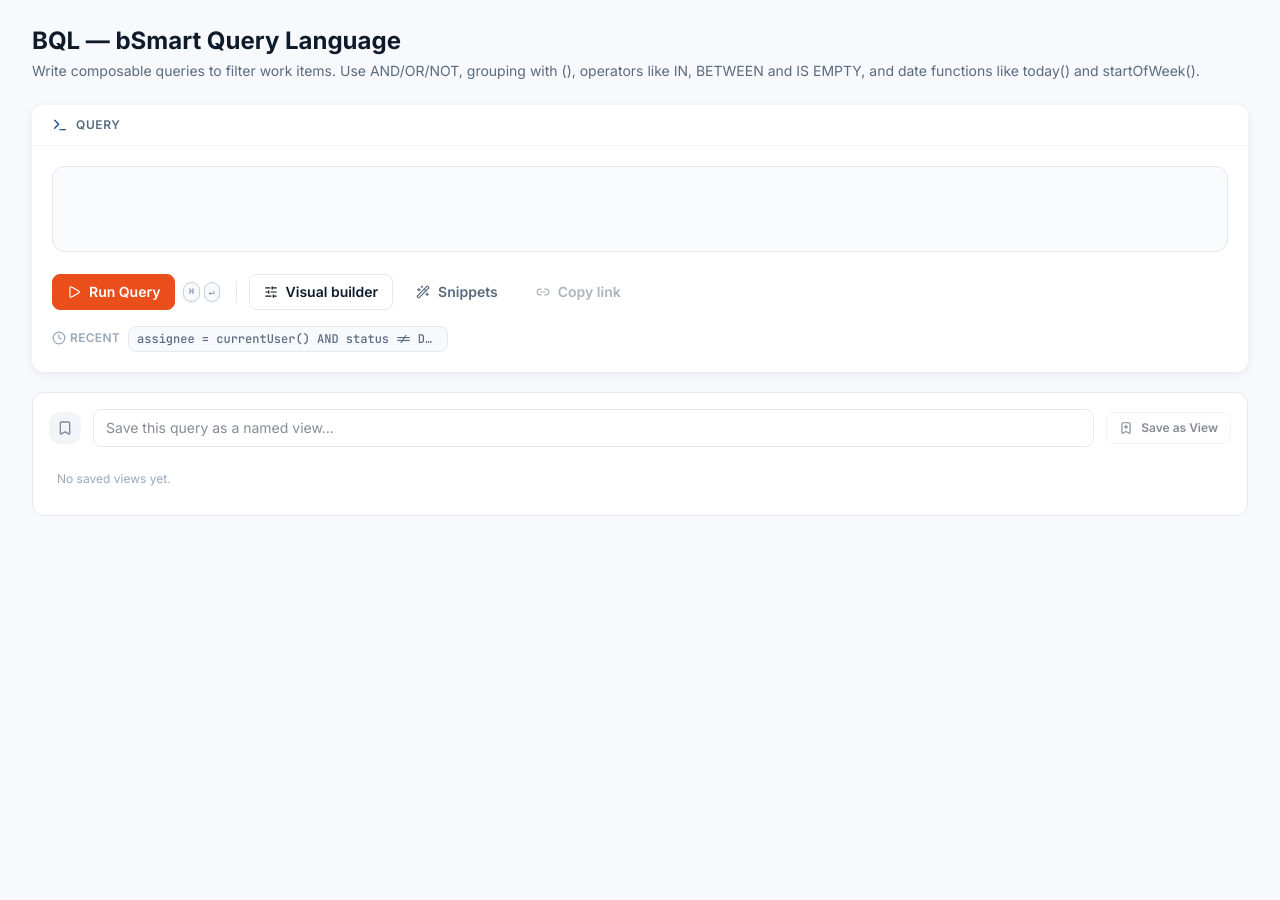
BqlView › toggles the visual builder open
Click the button "Visual builder" at (321,292), box [248,274,393,310]
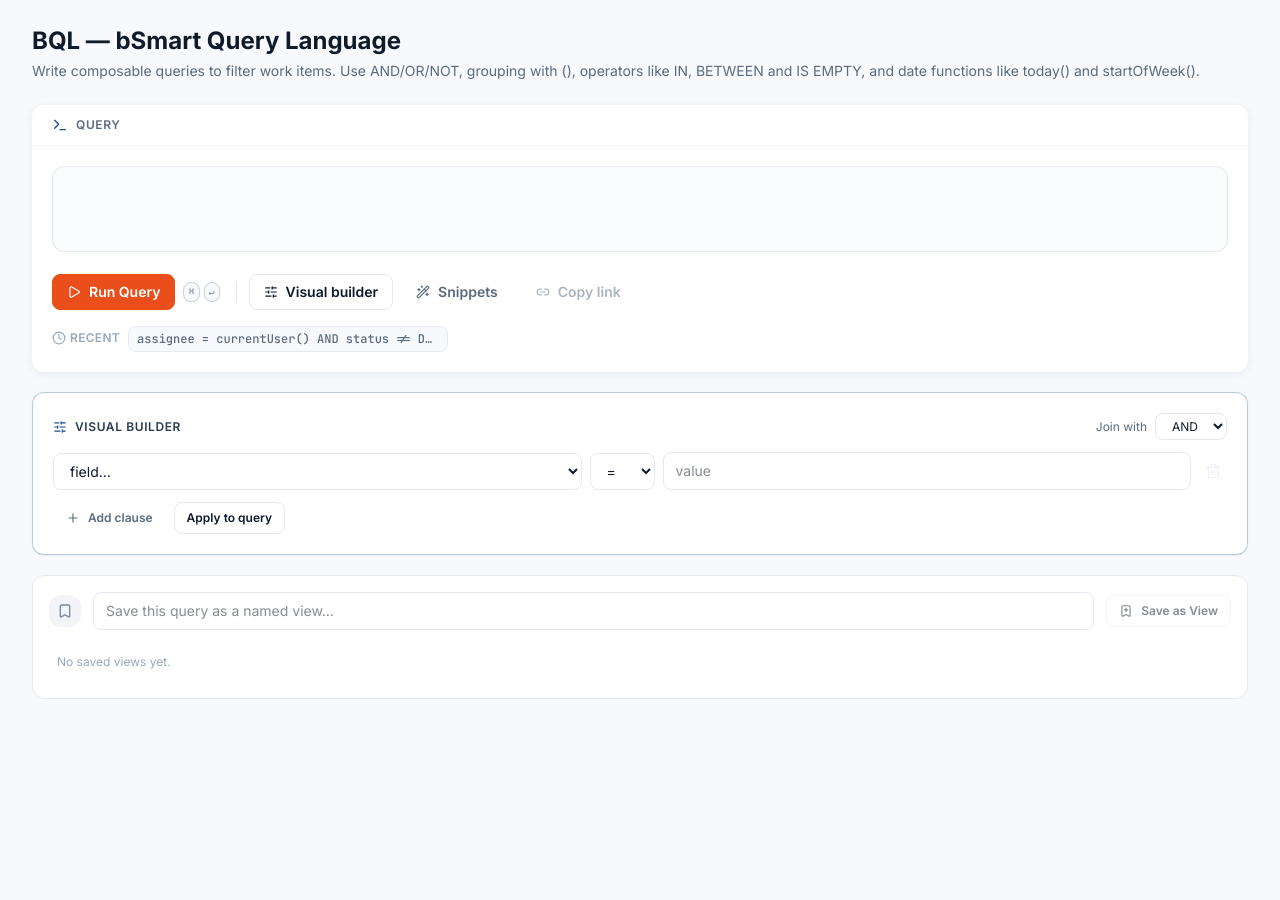
Check: the text "Visual builder" is shown, box [53,419,181,435]
